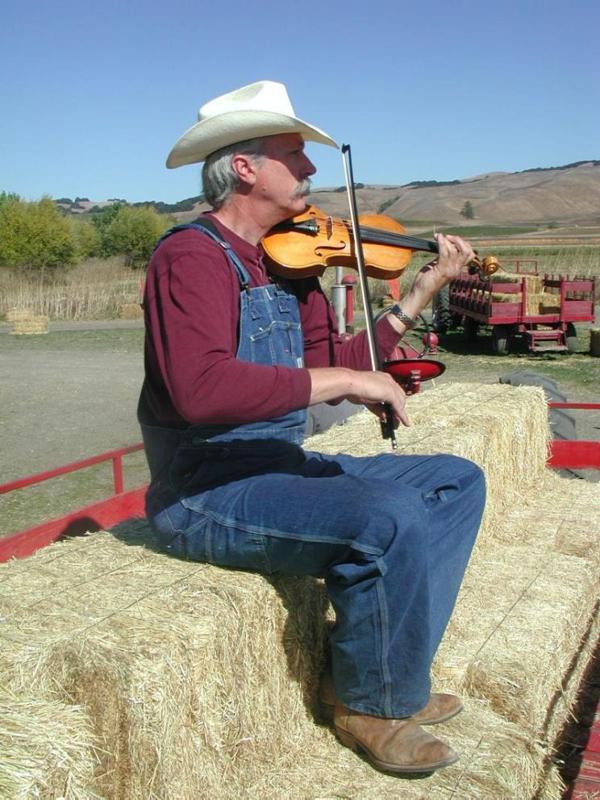person: (138, 79, 488, 782)
